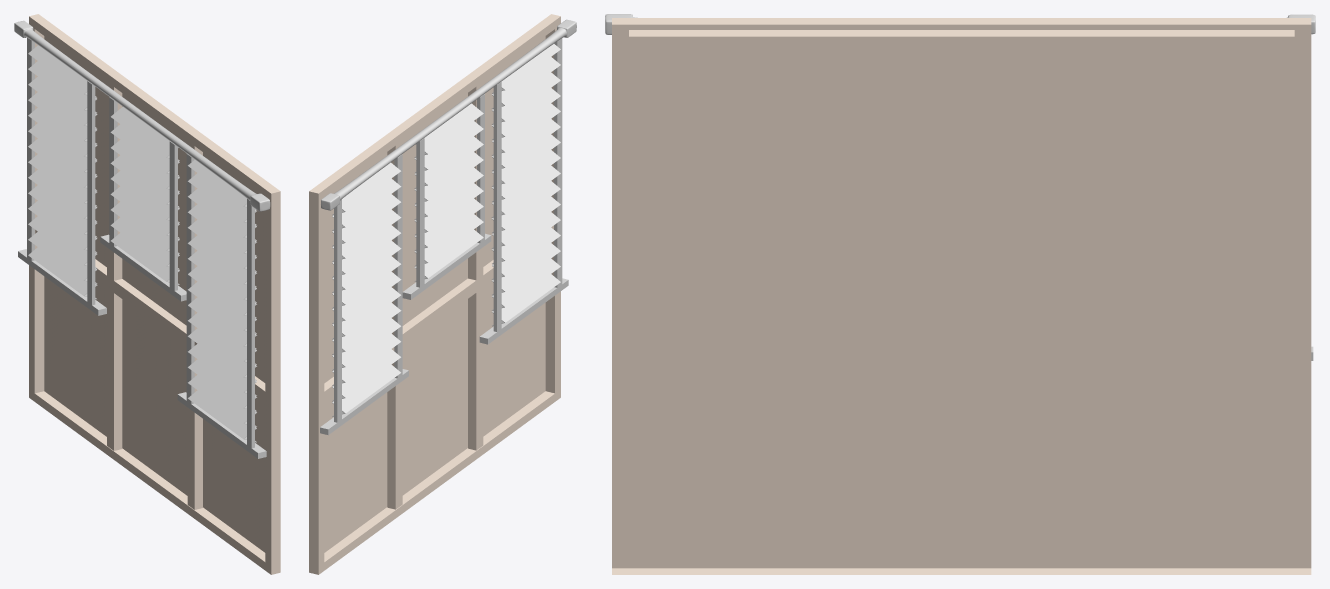
The model's file is homewindow.gltf.
3 views of the same model, side by side, from view 1: azimuth 30°, elevation 25°; view 2: azimuth 150°, elevation 25°; view 3: azimuth 270°, elevation 25° (orthographic). The views are drawn at different scales.
Visible parts, largest first — view 1: howwindow, howwindow_wing_3, howwindow_wing_1, howwindow_wing_2, howwindow_wrap_3, howwindow_wrap_1, howwindow_wrap_2, howwindow_stick; view 2: howwindow, howwindow_wing_3, howwindow_wing_1, howwindow_wing_2, howwindow_wrap_3, howwindow_wrap_1, howwindow_wrap_2, howwindow_stick; view 3: howwindow.
Boxes of the visible parts, <box> form: howwindow: <box>29,14,280,574</box>; howwindow_wing_3: <box>188,160,256,442</box>; howwindow_wing_1: <box>28,45,97,299</box>; howwindow_wing_2: <box>110,107,179,284</box>; howwindow_wrap_3: <box>177,154,266,458</box>; howwindow_wrap_1: <box>18,38,106,315</box>; howwindow_wrap_2: <box>100,97,186,301</box>; howwindow_stick: <box>14,20,270,211</box>; howwindow: <box>309,14,560,574</box>; howwindow_wing_3: <box>491,44,560,326</box>; howwindow_wing_1: <box>332,162,401,416</box>; howwindow_wing_2: <box>414,103,483,281</box>; howwindow_wrap_3: <box>479,38,568,344</box>; howwindow_wrap_1: <box>320,154,408,435</box>; howwindow_wrap_2: <box>402,94,491,299</box>; howwindow_stick: <box>321,19,576,210</box>; howwindow: <box>612,18,1311,574</box>.
Bounding box in the file's own units: 0.4207 × 6.5 × 7.61.
